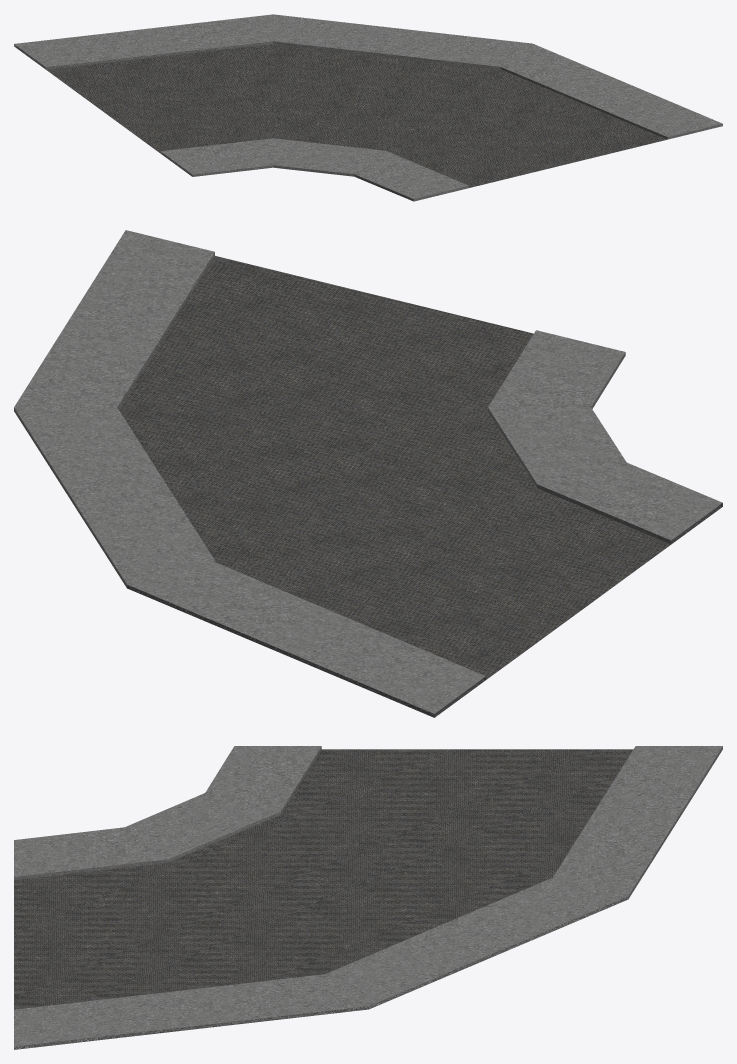
File: Road_Curve.glb
The picture shows the model from 3 angles, top to bottom: view 1: azimuth 30°, elevation 25°; view 2: azimuth 150°, elevation 25°; view 3: azimuth 270°, elevation 25°; orthographic projection. The views are drawn at different scales.
Visible parts, largest first — view 1: Road_Curve; view 2: Road_Curve; view 3: Road_Curve.
Part boxes in pixels (bbox=[...]): Road_Curve: bbox=[14, 14, 722, 201]; Road_Curve: bbox=[14, 230, 722, 717]; Road_Curve: bbox=[14, 746, 722, 1049].
Bounding box in the file's own units: 22.66 × 0.1182 × 22.59.
Materials: 3 (3 with a texture image).
